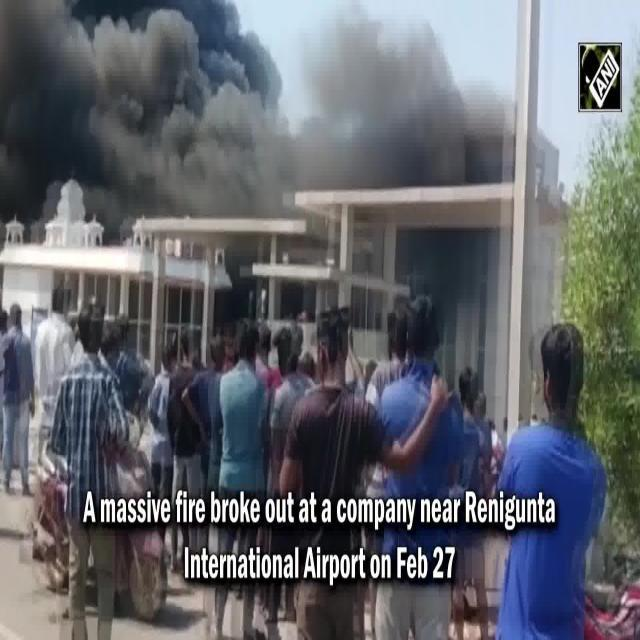Smoke: (5, 11, 259, 218)
